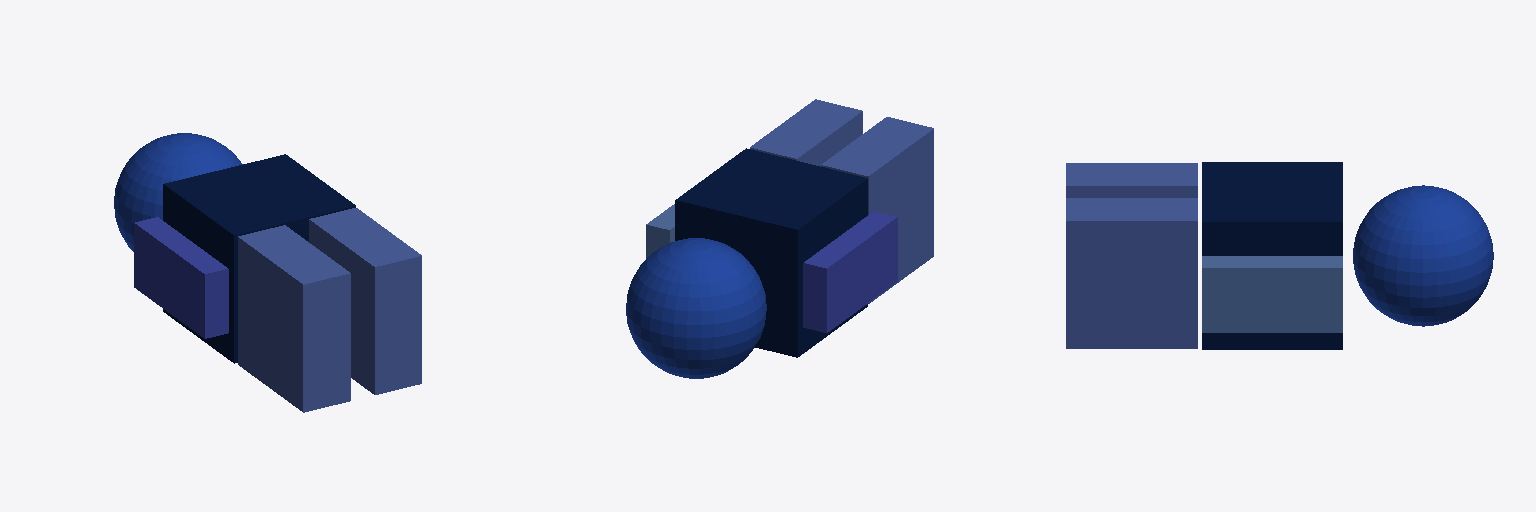
File: sporty_robot_animation_000001.obj
The picture shows the model from 3 angles: view 1: azimuth 30°, elevation 25°; view 2: azimuth 150°, elevation 25°; view 3: azimuth 270°, elevation 25°; orthographic projection.
Visible parts, largest first — view 1: Cube.002, Cube.001_Cube.005, Cube, Cube.004, Sphere.001; view 2: Cube, Sphere.001, Cube.002, Cube.004, Cube.001_Cube.005, Cube.003; view 3: Cube.001_Cube.005, Cube, Sphere.001, Cube.003, Cube.002.
Part boxes in pixels (left/top/right/bottom): Cube.002: left=238, top=225, right=350, bottom=412; Cube.001_Cube.005: left=309, top=208, right=421, bottom=394; Cube: left=163, top=154, right=355, bottom=363; Cube.004: left=134, top=217, right=228, bottom=338; Sphere.001: left=114, top=133, right=242, bottom=251; Cube: left=675, top=148, right=867, bottom=357; Sphere.001: left=626, top=238, right=766, bottom=378; Cube.002: left=821, top=117, right=933, bottom=303; Cube.004: left=803, top=211, right=897, bottom=332; Cube.001_Cube.005: left=750, top=99, right=862, bottom=166; Cube.003: left=646, top=204, right=674, bottom=258; Cube.001_Cube.005: left=1066, top=198, right=1197, bottom=348; Cube: left=1202, top=162, right=1342, bottom=349; Sphere.001: left=1353, top=185, right=1493, bottom=326; Cube.003: left=1202, top=256, right=1342, bottom=332; Cube.002: left=1066, top=163, right=1197, bottom=197.
Bounding box in the file's own units: 0.76 × 0.514 × 1.56.